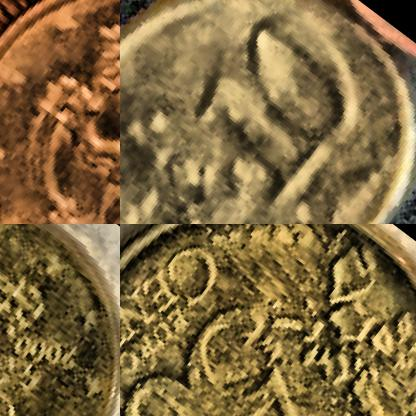coin: (120, 0, 415, 223), (120, 224, 415, 415), (0, 0, 119, 223), (0, 224, 119, 415)
